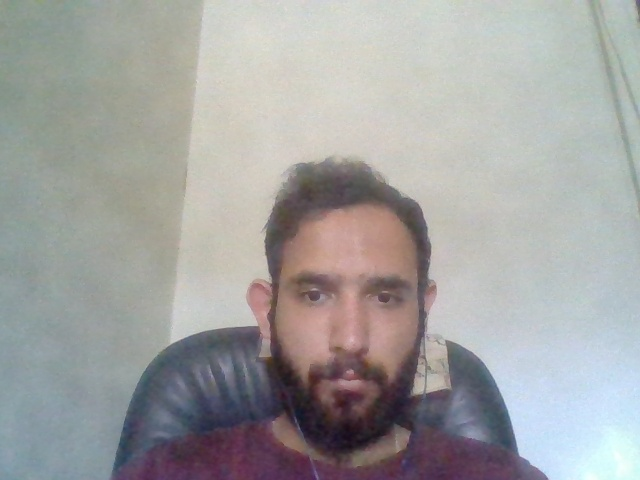Goodbye: (95, 267, 216, 432)
